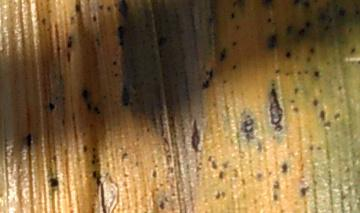tarspot: (269, 88, 283, 132), (191, 120, 200, 153), (116, 25, 126, 47), (118, 1, 129, 18), (267, 35, 278, 51), (24, 132, 33, 149), (121, 87, 129, 106), (157, 35, 167, 48), (47, 101, 57, 113), (219, 47, 226, 64), (82, 88, 90, 102), (49, 176, 58, 188), (261, 1, 273, 10), (337, 8, 347, 18), (64, 52, 73, 63), (201, 79, 210, 90), (300, 186, 309, 196), (158, 199, 166, 210), (94, 37, 103, 46), (66, 38, 74, 48), (94, 104, 102, 114), (207, 69, 215, 79), (272, 182, 280, 192), (211, 160, 218, 171), (218, 169, 225, 180), (214, 189, 221, 200), (74, 2, 80, 14), (323, 121, 331, 130), (291, 105, 300, 113), (150, 170, 159, 178), (285, 50, 292, 60), (281, 163, 288, 173), (334, 112, 341, 122), (336, 83, 343, 93), (233, 1, 244, 7), (86, 103, 93, 112), (82, 143, 89, 152), (231, 63, 238, 72), (299, 28, 306, 37), (327, 16, 334, 25), (314, 69, 321, 78), (320, 110, 326, 120), (229, 12, 236, 20), (292, 1, 300, 8), (303, 1, 310, 9), (323, 24, 330, 32), (273, 68, 281, 75), (308, 143, 314, 152), (41, 17, 47, 26), (92, 168, 97, 178), (355, 9, 360, 19), (95, 179, 102, 186), (98, 4, 105, 11), (289, 97, 296, 104), (303, 68, 310, 75), (234, 24, 241, 31), (92, 15, 98, 23), (231, 38, 237, 46), (266, 16, 272, 24), (287, 26, 293, 34), (272, 193, 278, 201), (112, 59, 117, 68), (106, 5, 113, 11), (294, 87, 300, 94), (296, 70, 302, 77), (307, 20, 312, 28), (313, 99, 318, 107), (307, 55, 312, 63), (114, 72, 120, 78), (92, 152, 97, 159), (309, 47, 314, 54), (91, 146, 96, 152), (351, 45, 355, 52), (92, 159, 97, 164)
